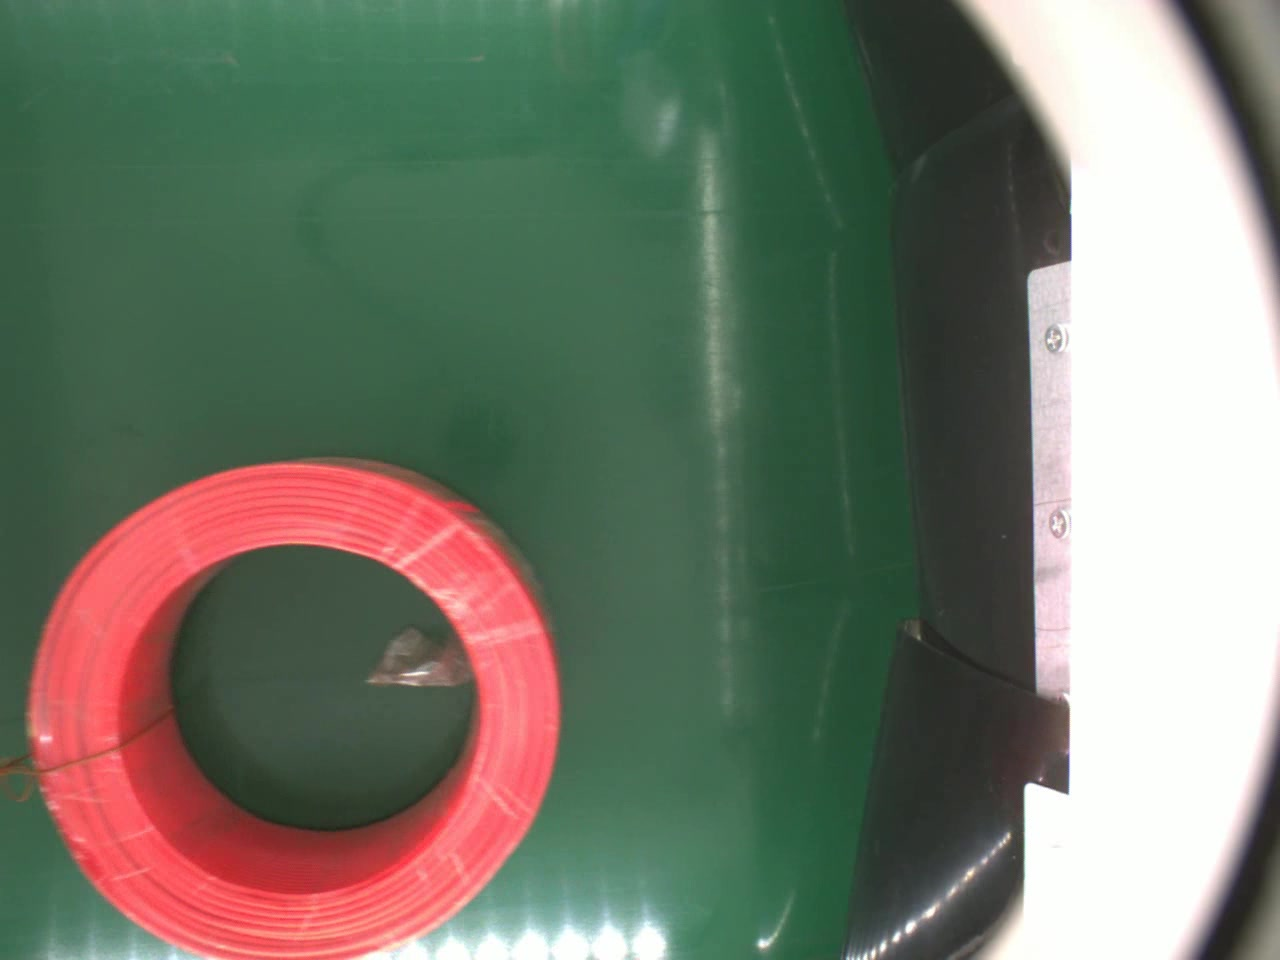red: (25, 449, 569, 960)
